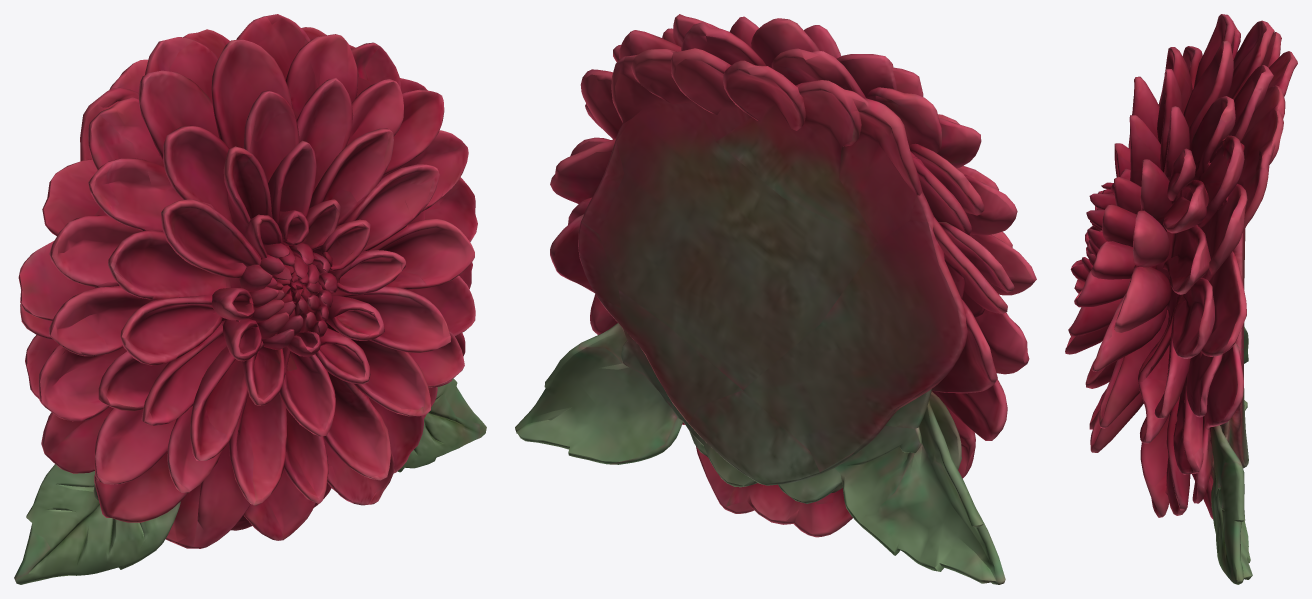
The model's file is raspberry_dahlia.glb.
3 views of the same model, side by side, from view 1: azimuth 30°, elevation 25°; view 2: azimuth 150°, elevation 25°; view 3: azimuth 270°, elevation 25° (orthographic). The views are drawn at different scales.
Visible parts, largest first — view 1: model; view 2: model; view 3: model.
Part boxes in pixels (x1,y1,x2,y2): model: (14,14,486,584); model: (515,14,1036,584); model: (1065,14,1297,584).
Size of the model in its own units: 1.9 by 1.9 by 0.8689.
Materials: 1 (1 with a texture image).
